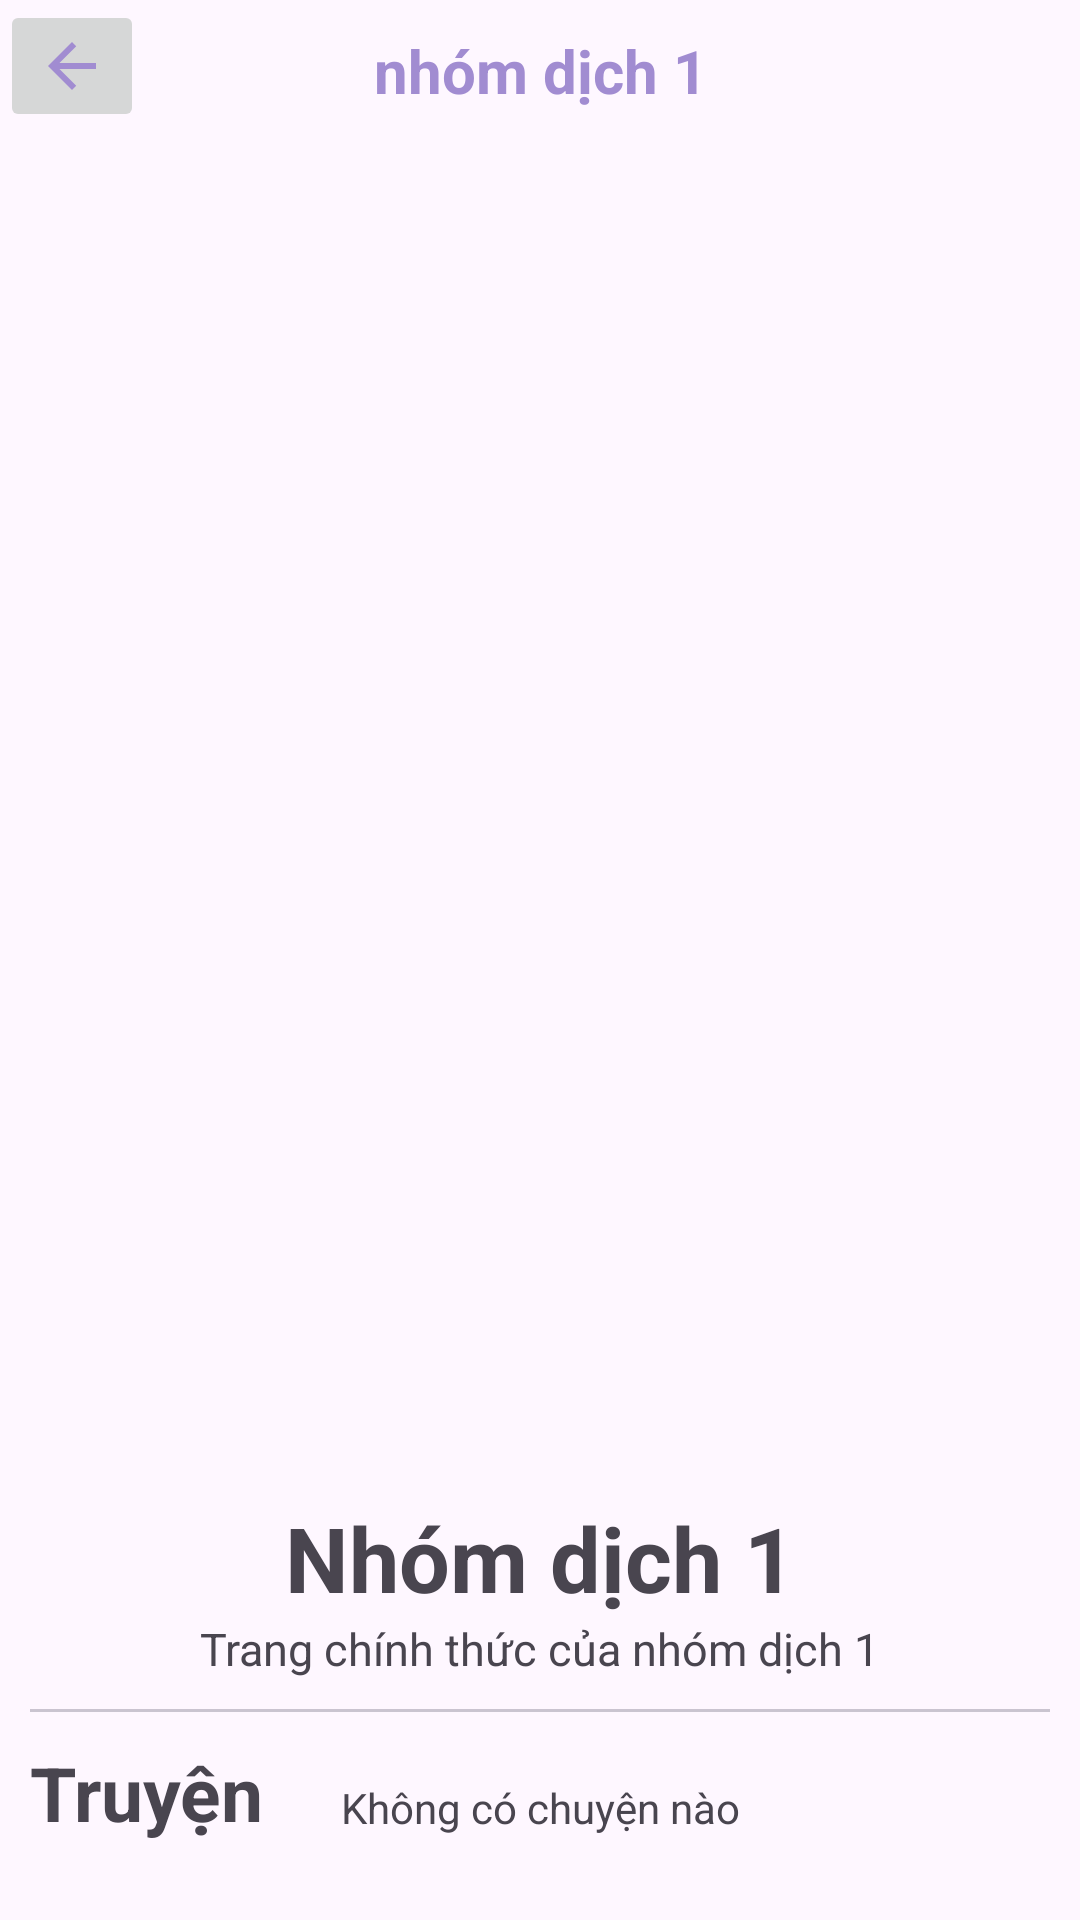

Where icons sit on this 1080w x 1920h app screen, as [left=x1, top=y1, right=x2, bottom=y2]:
arrow back main: [left=12, top=18, right=132, bottom=114]
